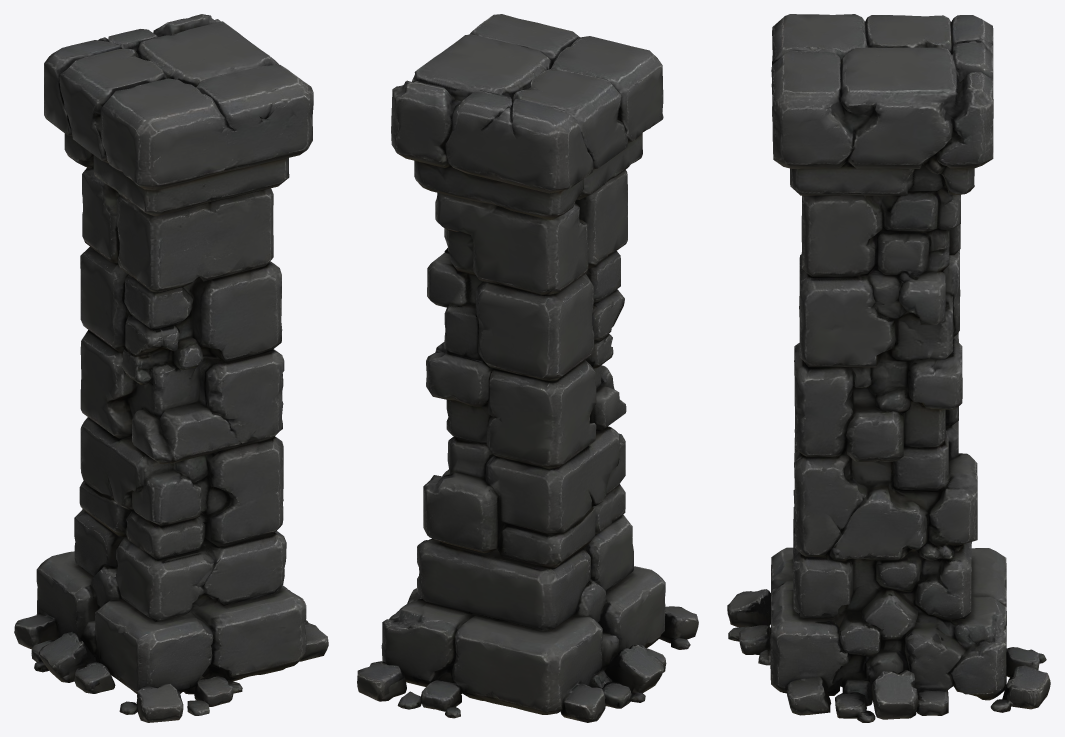
The model's file is Pillar_Broken.fbx.
3 renders of one model, left to right at view 1: azimuth 30°, elevation 25°; view 2: azimuth 150°, elevation 25°; view 3: azimuth 270°, elevation 25°, orthographic. The views are drawn at different scales.
Parts seen in each view (by area): view 1: Pillar_Broken; view 2: Pillar_Broken; view 3: Pillar_Broken.
Boxes of the visible parts, bbox=[...] form: Pillar_Broken: bbox=[14, 14, 328, 722]; Pillar_Broken: bbox=[357, 14, 698, 722]; Pillar_Broken: bbox=[727, 14, 1050, 722].
Size of the model in its own units: 136 by 297 by 143.
Materials: 1 (1 with a texture image).
